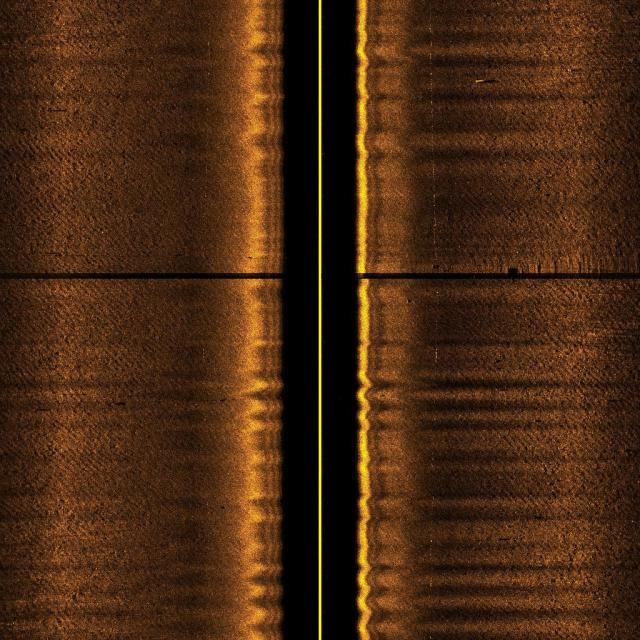mine: (470, 74, 499, 86)
